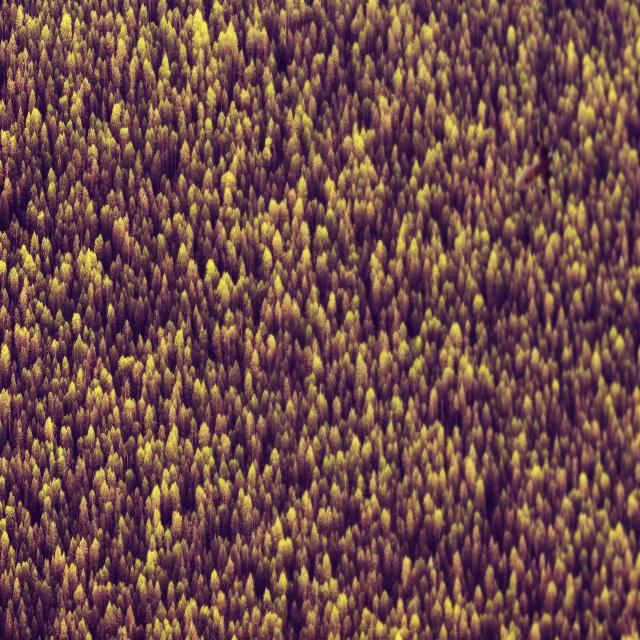airplane: (514, 108, 554, 202)
